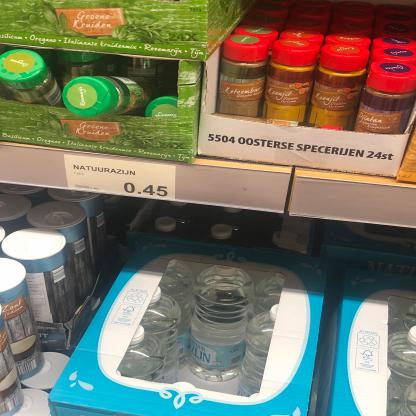prtg: (65, 156, 177, 201)
